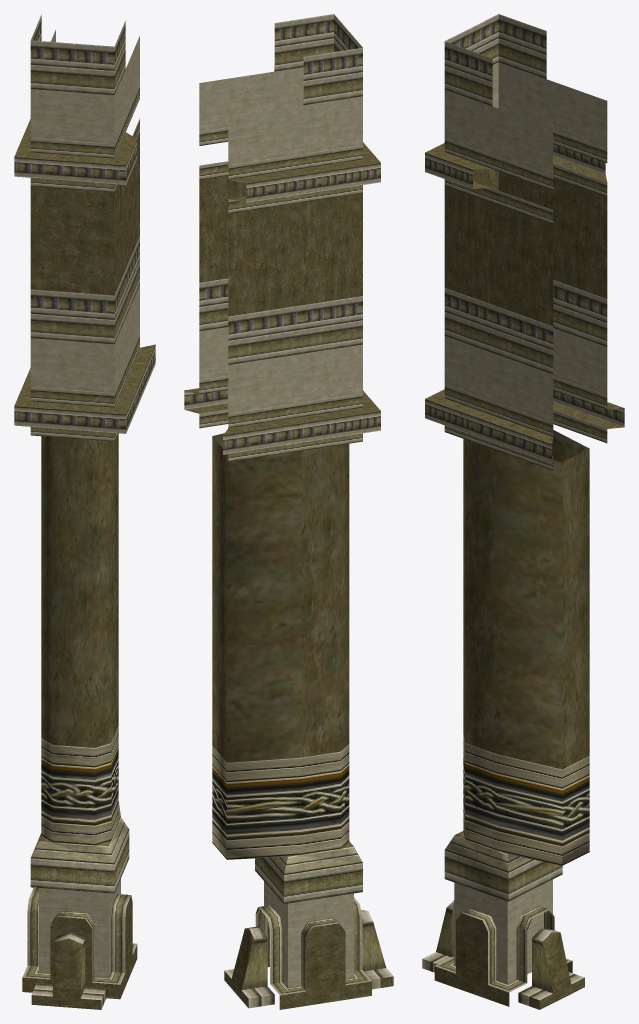
Rendered from CH09_SMAUG_PLAYSURFACE_LAIR65.fbx.
3 renders of one model, left to right at view 1: azimuth 30°, elevation 25°; view 2: azimuth 150°, elevation 25°; view 3: azimuth 270°, elevation 25°, orthographic.
Parts seen in each view (by area): view 1: CH09_SMAUG_PLAYSURFACE_LAIR65; view 2: CH09_SMAUG_PLAYSURFACE_LAIR65; view 3: CH09_SMAUG_PLAYSURFACE_LAIR65.
Boxes of the visible parts, x1,y1,x2,y2 form: CH09_SMAUG_PLAYSURFACE_LAIR65: [14, 14, 155, 1009]; CH09_SMAUG_PLAYSURFACE_LAIR65: [184, 14, 393, 1009]; CH09_SMAUG_PLAYSURFACE_LAIR65: [422, 14, 624, 1009].
Size of the model in its own units: 50751 by 271667 by 53021.
Materials: 7 (7 with a texture image).
